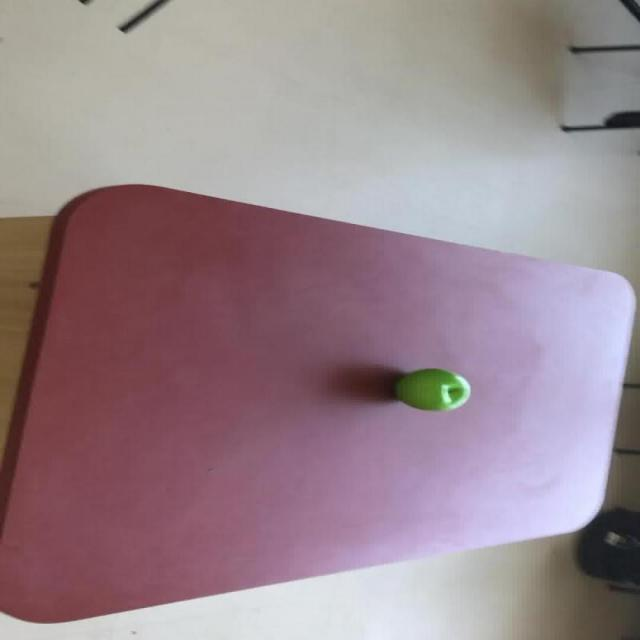Apple: (393, 367, 470, 410)
